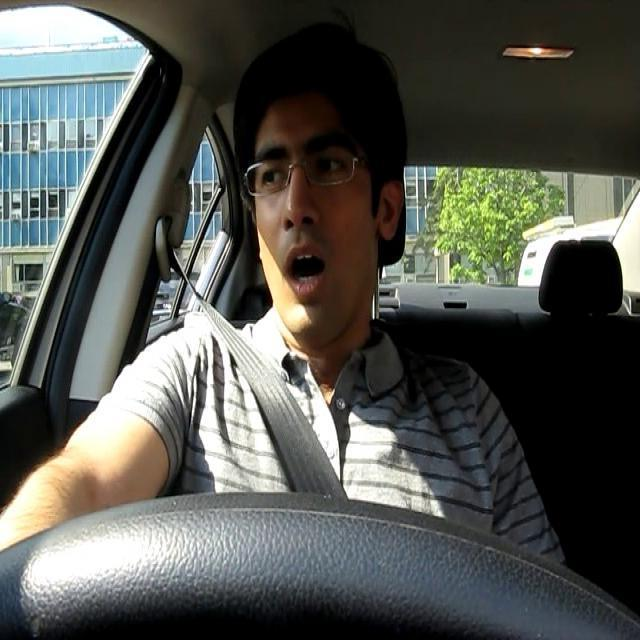open: (302, 131, 361, 182), (250, 136, 290, 192)
